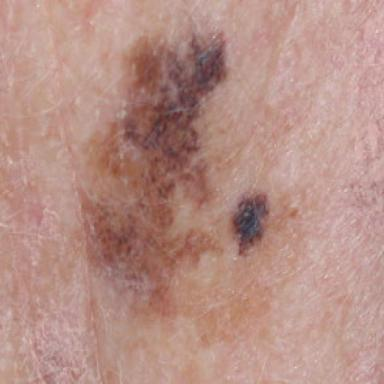Melanoma: (79, 16, 230, 315), (229, 188, 269, 257)
